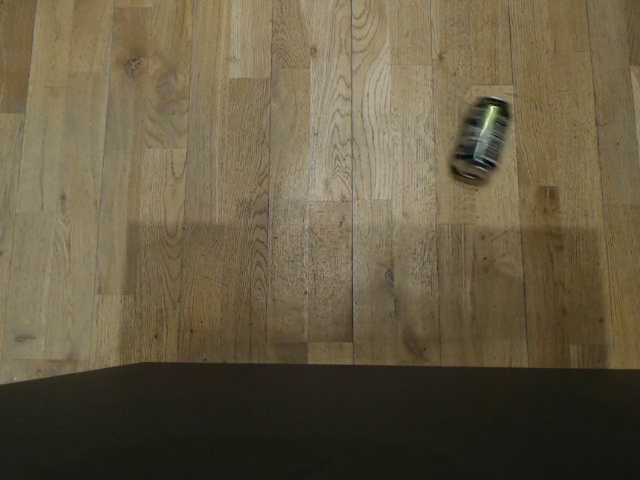beer: (448, 93, 510, 183)
